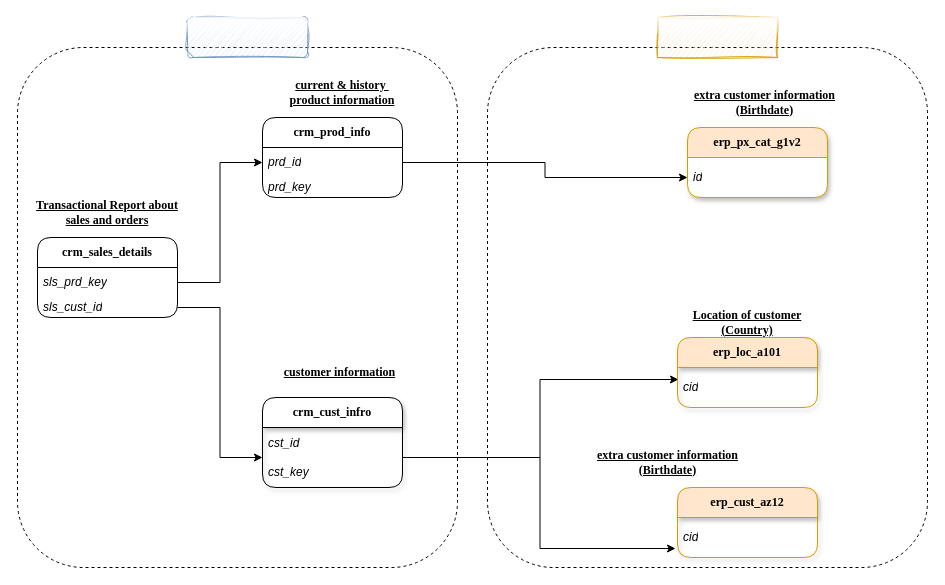
This 945x585 diagram has some shape labels left out. The shapes that lost their labels are listed below. From the top down, each one's centre as x and y in pixels, then its label:
At point 247,37: "CRM".
At point 717,37: "ERP".
